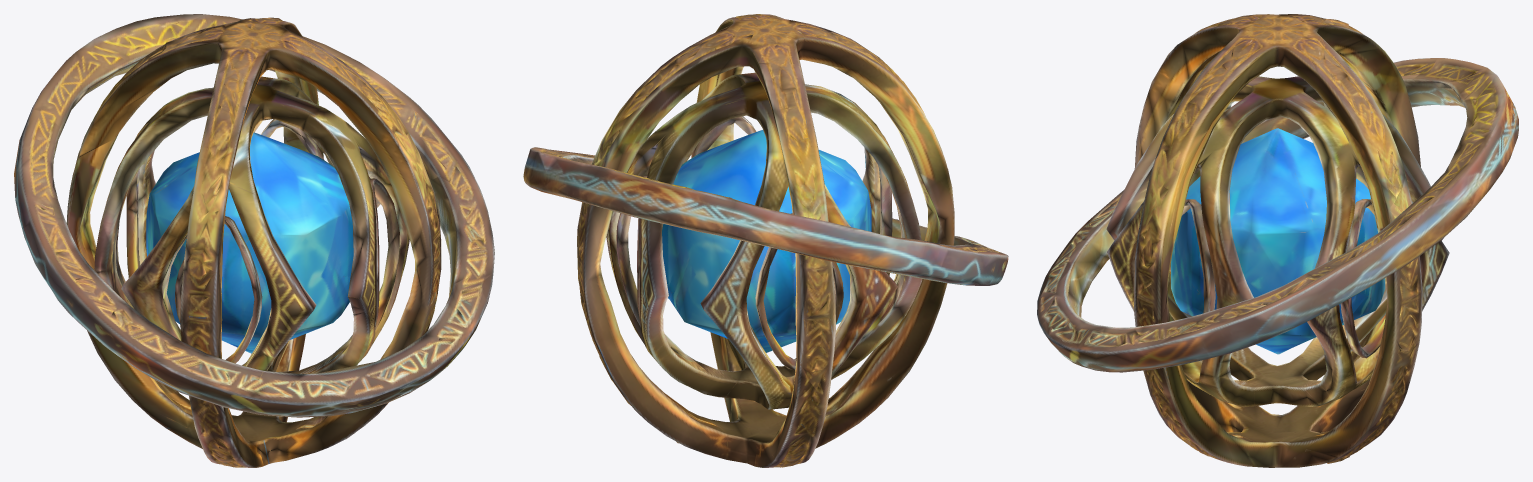
File: Meshy_AI_Create_a_game_ready_3_0719103918_texture.fbx
3 views of the same model, side by side, from view 1: azimuth 30°, elevation 25°; view 2: azimuth 150°, elevation 25°; view 3: azimuth 270°, elevation 25° (orthographic).
Visible parts, largest first — view 1: Mesh1.0; view 2: Mesh1.0; view 3: Mesh1.0.
Part boxes in pixels (x1,y1,x2,y2): Mesh1.0: (14, 14, 494, 467); Mesh1.0: (523, 14, 1008, 467); Mesh1.0: (1037, 14, 1518, 467).
Size of the model in its own units: 190 by 181 by 186.
1 material, 1 textured.
